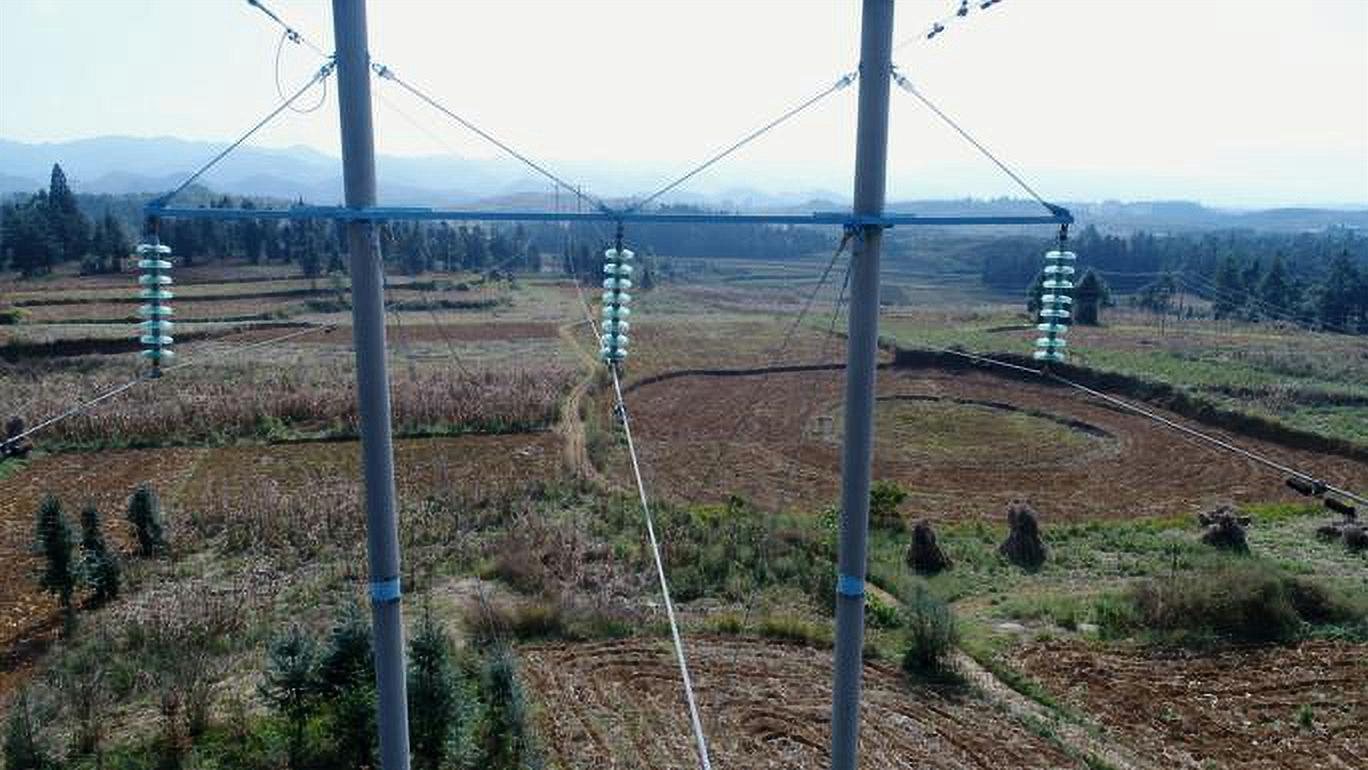insulator: (1031, 247, 1078, 365), (134, 240, 177, 361), (597, 246, 635, 363)
